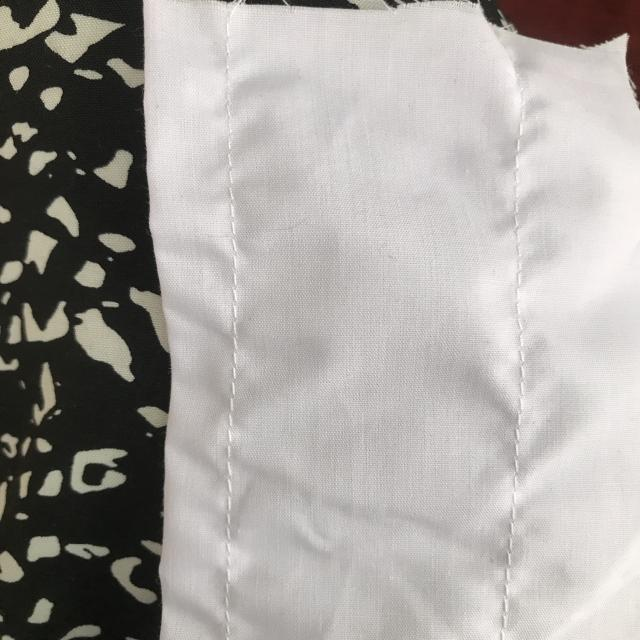good: (210, 170, 260, 327), (222, 354, 242, 551), (498, 503, 520, 614)
